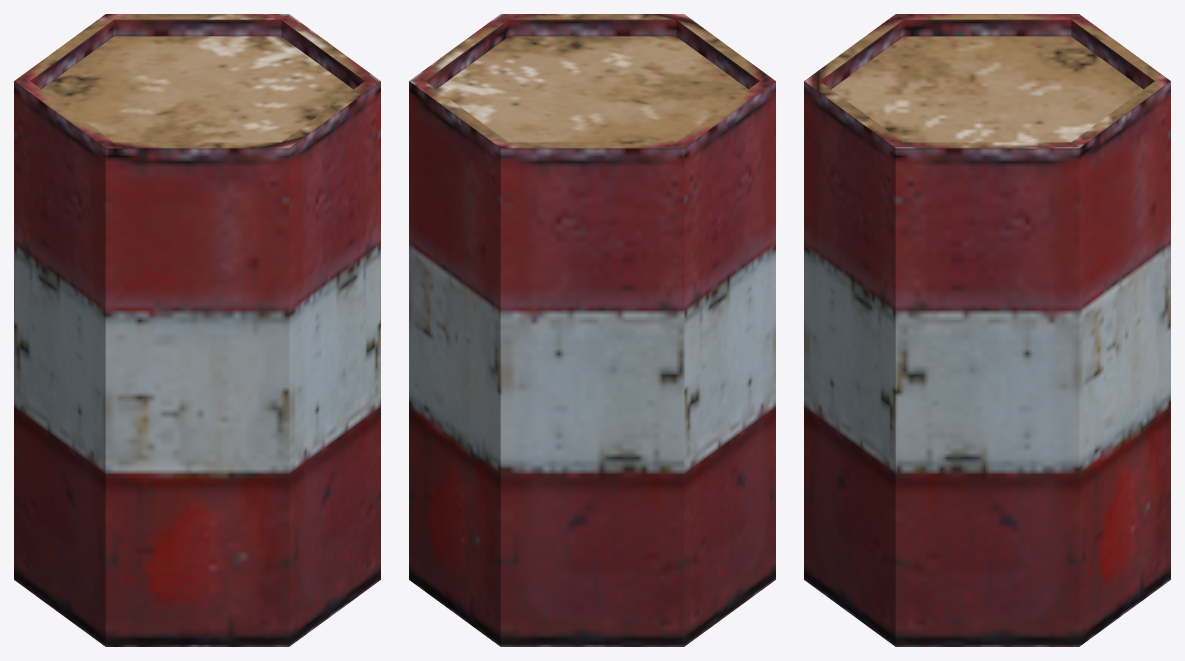
Rendered from Barrel01.obj.
3 renders of one model, left to right at view 1: azimuth 30°, elevation 25°; view 2: azimuth 150°, elevation 25°; view 3: azimuth 270°, elevation 25°, orthographic.
Visible parts, largest first — view 1: Barrel01; view 2: Barrel01; view 3: Barrel01.
Part boxes in pixels (x1,y1,x2,y2): Barrel01: (14,14,380,646); Barrel01: (409,14,775,646); Barrel01: (804,14,1170,646).
Size of the model in its own units: 0.6928 by 1.2 by 0.8.
